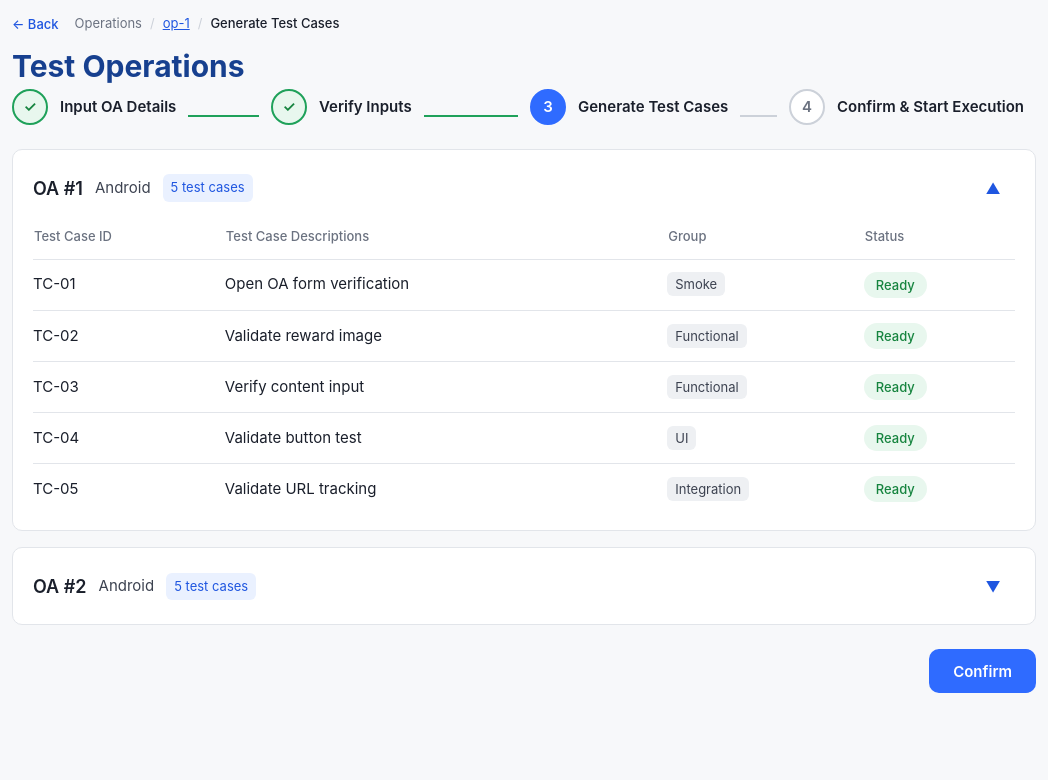
Test: GenerateScreen › surfaces a conflict message on a stale Confirm instead of navigating
The width and height of the screenshot is (1048, 780).
Click the button "Confirm".
click(983, 671)  # box [929,649,1036,693]
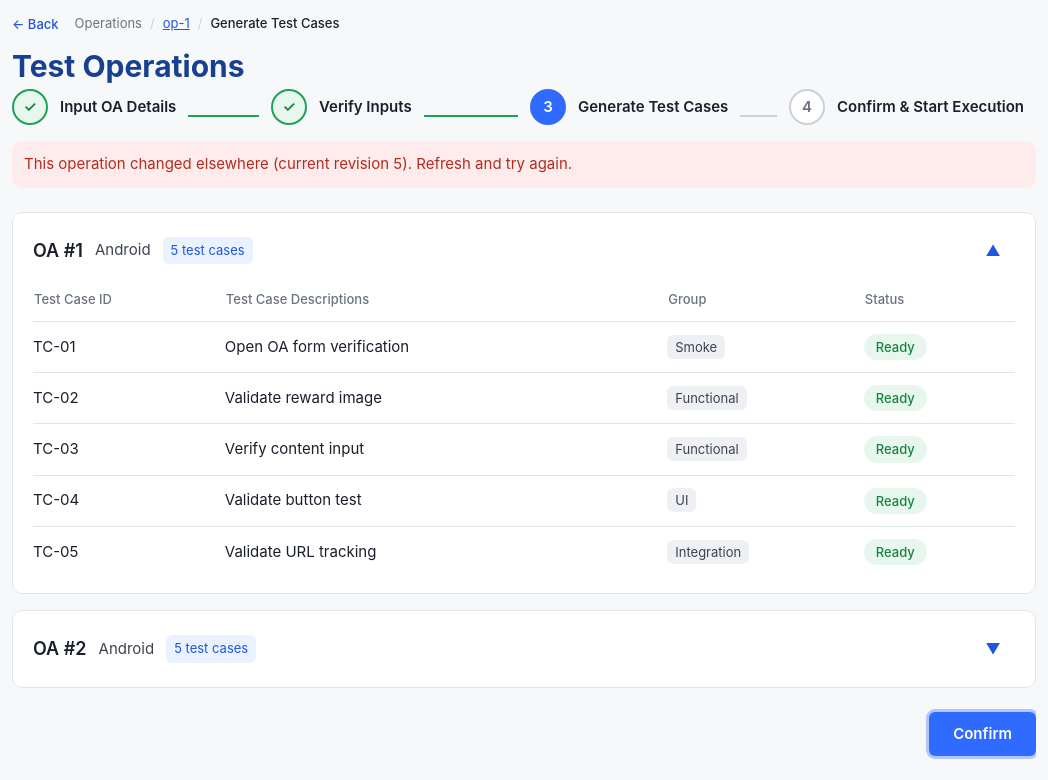
Expected: the text "This operation changed elsewhere (current revision 5). Refresh and try again." is shown, [12,141,1036,188]
